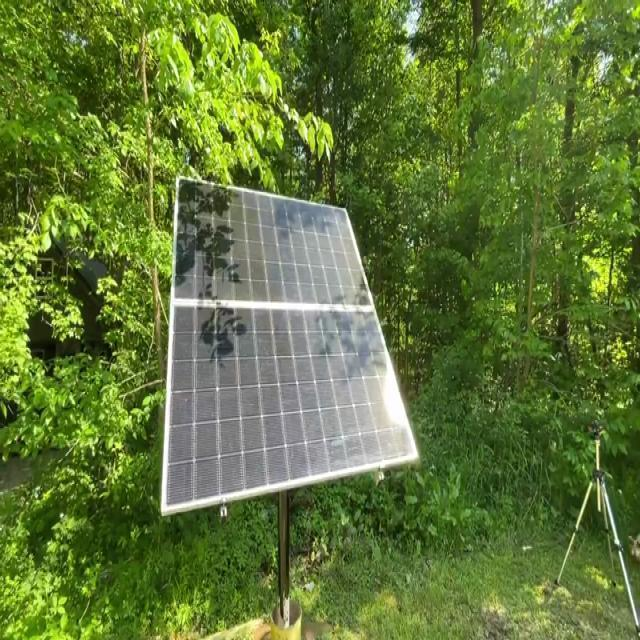Normal Solar Panel: (163, 308, 417, 513), (176, 180, 373, 303)
